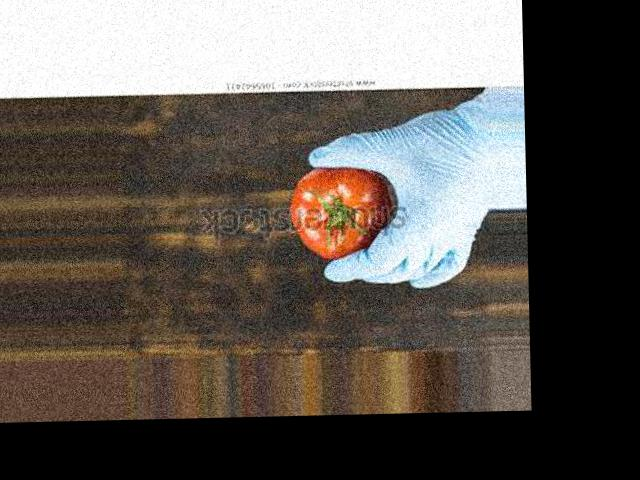tomato: (287, 165, 393, 260)
